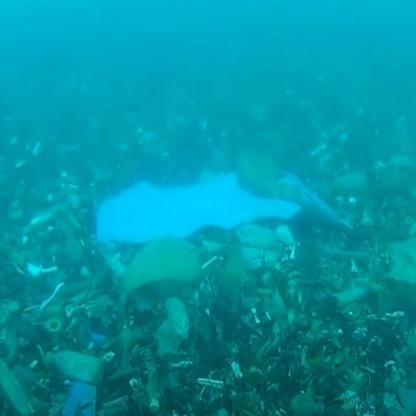plastic: (92, 178, 312, 261)
